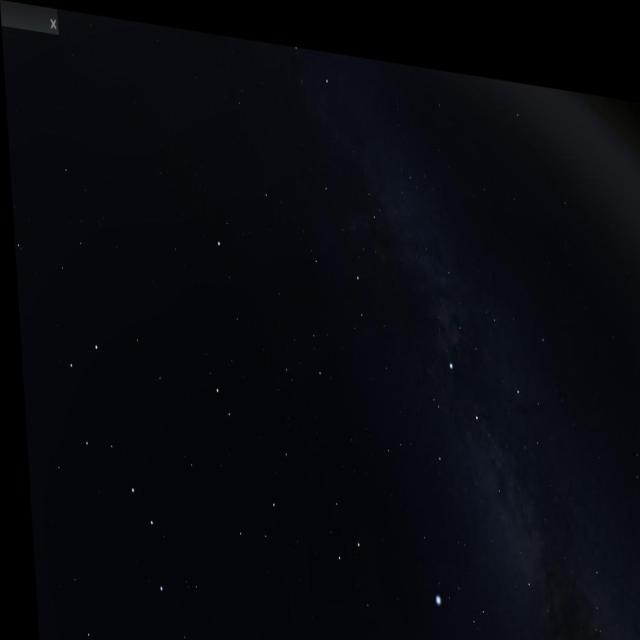cygnus: (407, 313, 537, 568)
lyra: (418, 546, 490, 633)
ursa_major: (49, 332, 162, 590)
